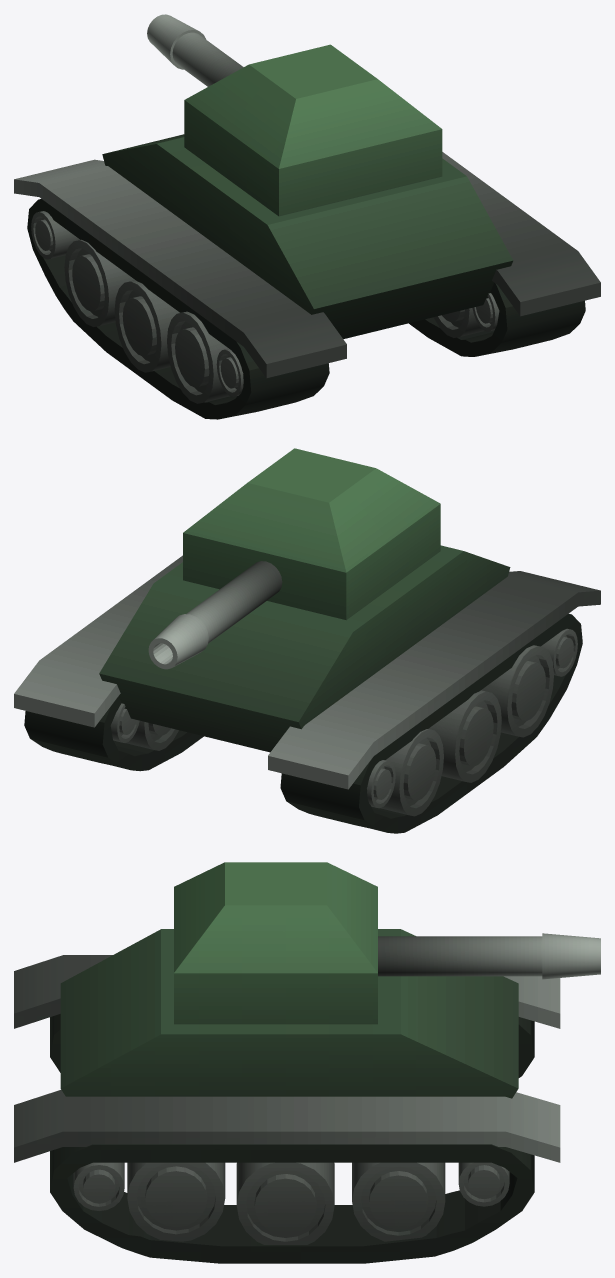
Rendered from Tanque.fbx.
The picture shows the model from 3 angles, top to bottom: view 1: azimuth 30°, elevation 25°; view 2: azimuth 150°, elevation 25°; view 3: azimuth 270°, elevation 25°; orthographic projection. The views are drawn at different scales.
Visible parts, largest first — view 1: Cañoncitoç, Cinta_2, Ruedas_2, Cinta, Ruedas; view 2: Cañoncitoç, Cinta_2, Ruedas_2, Cinta, Ruedas; view 3: Cañoncitoç, Ruedas, Cinta, Cinta_2.
Boxes of the visible parts, x1=… form: Cañoncitoç: x1=14, y1=14, x2=600, y2=403; Cinta_2: x1=27, y1=199, x2=329, y2=419; Ruedas_2: x1=31, y1=211, x2=243, y2=402; Cinta: x1=409, y1=283, x2=585, y2=356; Ruedas: x1=433, y1=293, x2=499, y2=337; Cañoncitoç: x1=14, y1=448, x2=600, y2=789; Cinta_2: x1=280, y1=613, x2=582, y2=833; Ruedas_2: x1=367, y1=628, x2=577, y2=816; Cinta: x1=24, y1=696, x2=203, y2=771; Ruedas: x1=110, y1=703, x2=178, y2=750; Cañoncitoç: x1=14, y1=862, x2=600, y2=1162; Ruedas: x1=73, y1=1162, x2=509, y2=1244; Cinta: x1=50, y1=1144, x2=534, y2=1263; Cinta_2: x1=50, y1=1014, x2=534, y2=1077.
Bounding box in the file's own units: 704 × 529 × 966.
